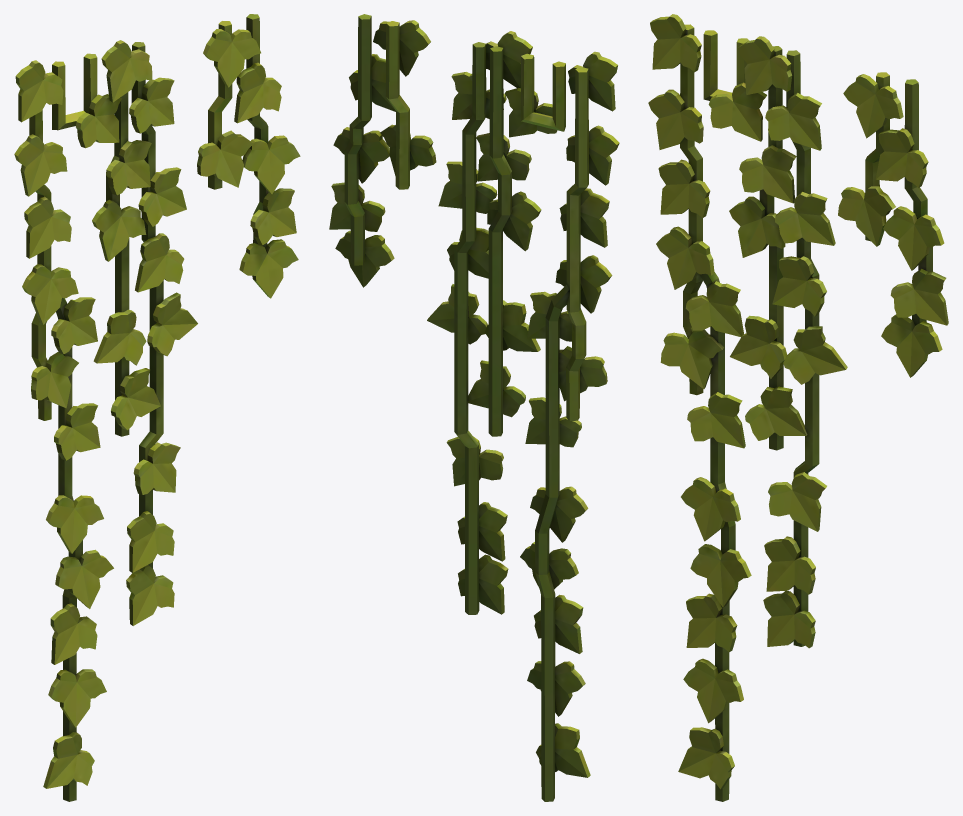
File: vines_a.glb
3 views of the same model, side by side, from view 1: azimuth 30°, elevation 25°; view 2: azimuth 150°, elevation 25°; view 3: azimuth 330°, elevation 25° (orthographic). The views are drawn at different scales.
Parts seen in each view (by area): view 1: ivy; view 2: ivy; view 3: ivy.
Boxes of the visible parts, box(x1,y1,x2,y2) form: ivy: box(14, 14, 300, 801); ivy: box(329, 14, 619, 801); ivy: box(648, 14, 948, 801).
Bounding box in the file's own units: 0.9186 × 2.32 × 0.0937.
1 material, 1 textured.
